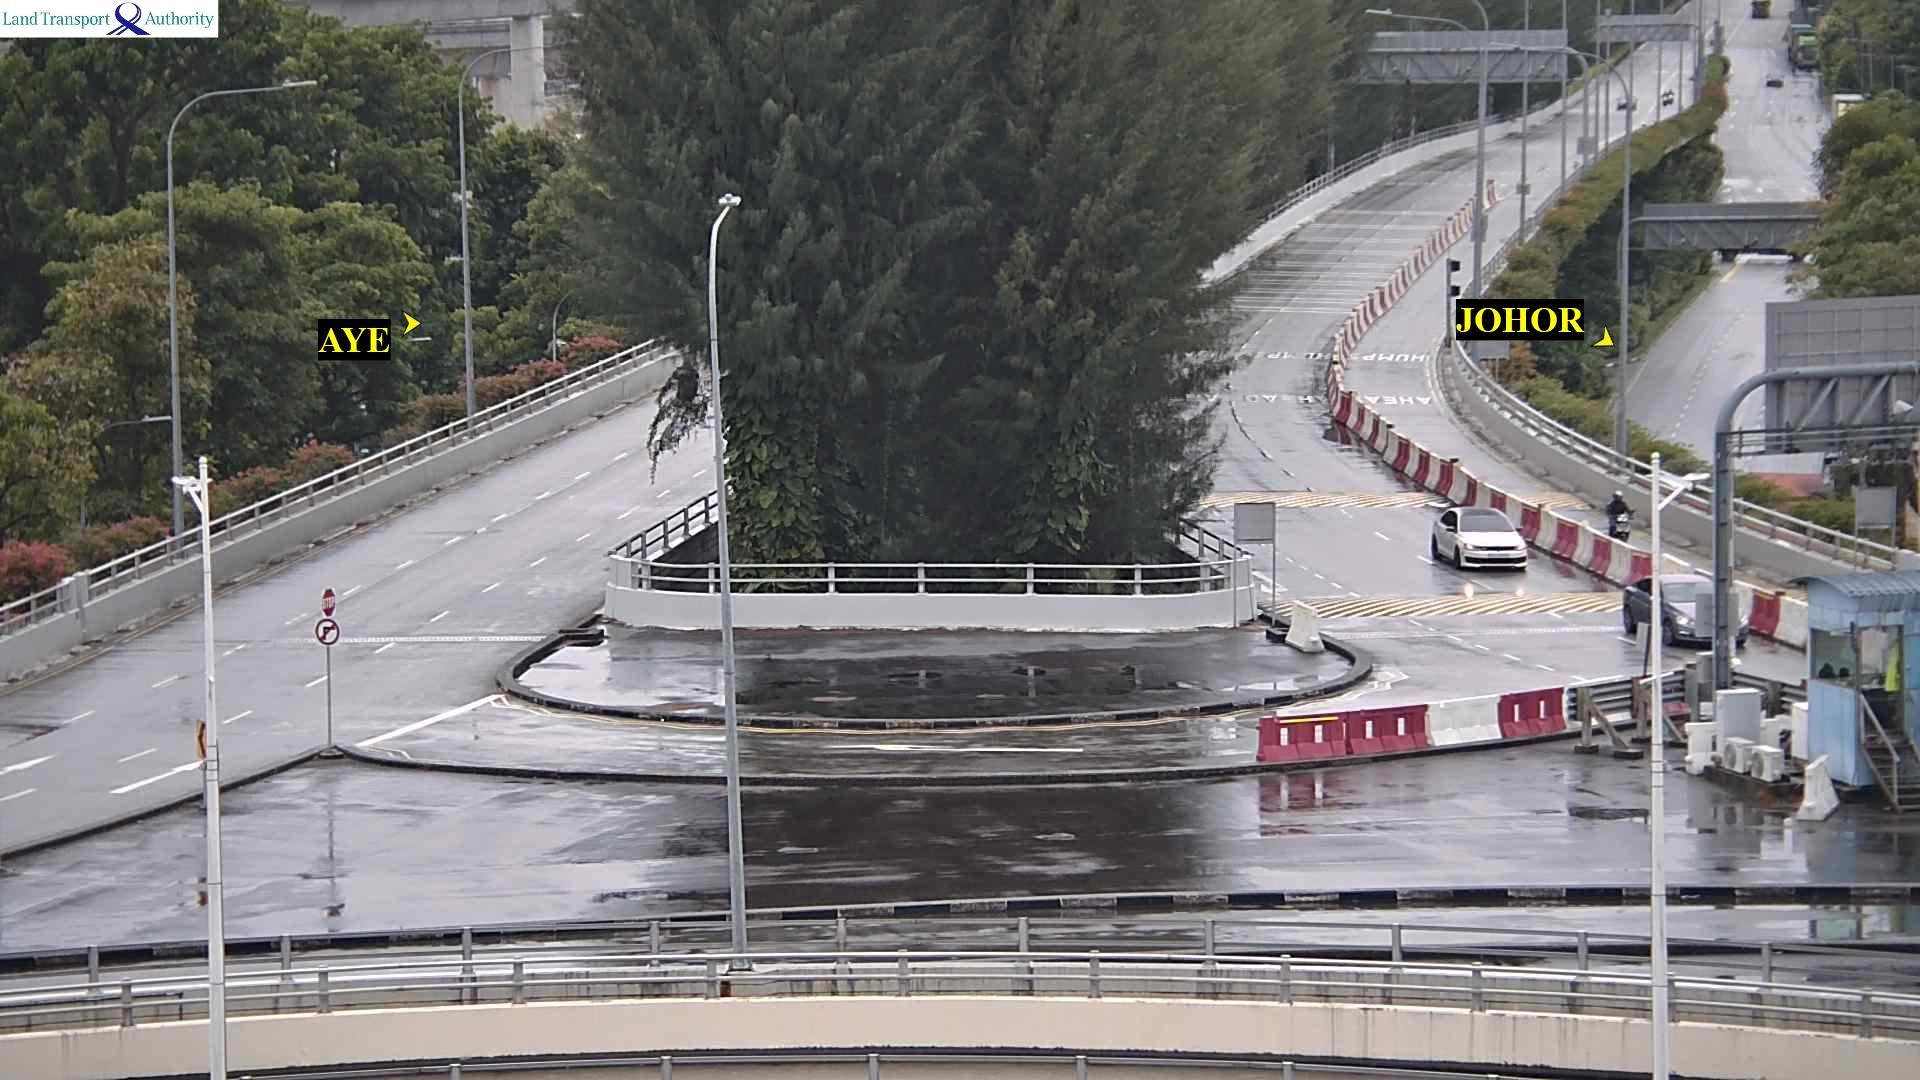vehicle-secondlink-johor: (1625, 569, 1762, 650), (1437, 503, 1533, 571), (1612, 490, 1649, 542), (1603, 490, 1632, 538)
